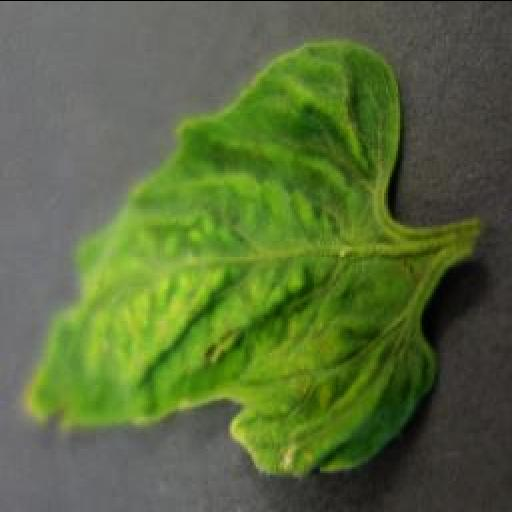disease_tomato: (23, 40, 437, 474)
